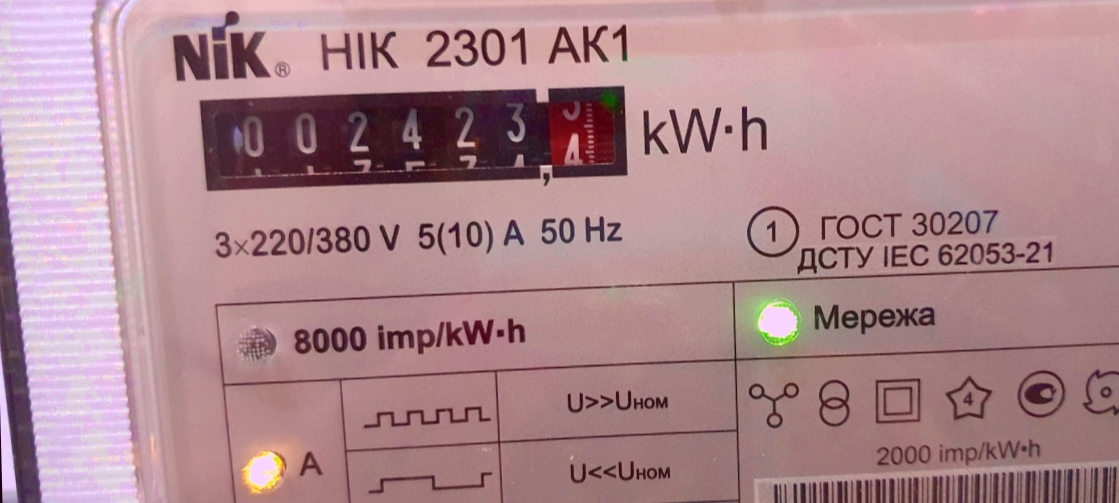0: (240, 111, 268, 160), (294, 110, 320, 155)
2: (345, 107, 372, 154), (453, 104, 478, 150)
3: (504, 99, 529, 144), (561, 98, 583, 121)
4: (400, 105, 424, 151), (561, 129, 586, 167)
screen: (189, 74, 642, 203)
